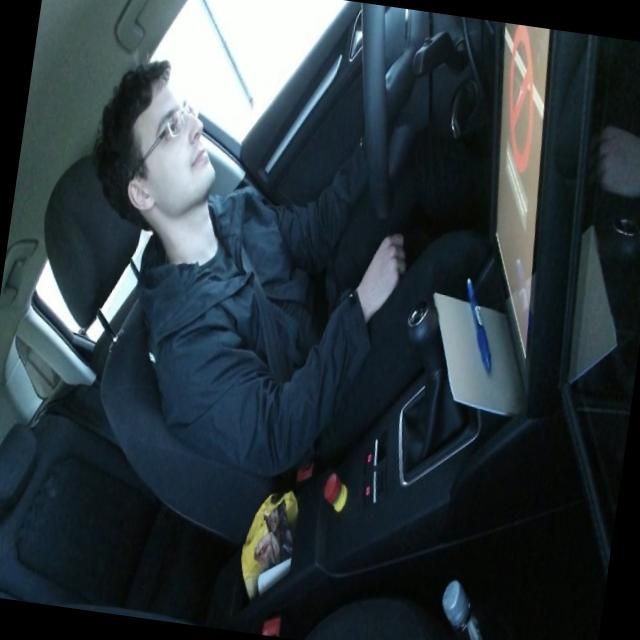pen: (454, 274, 504, 374)
